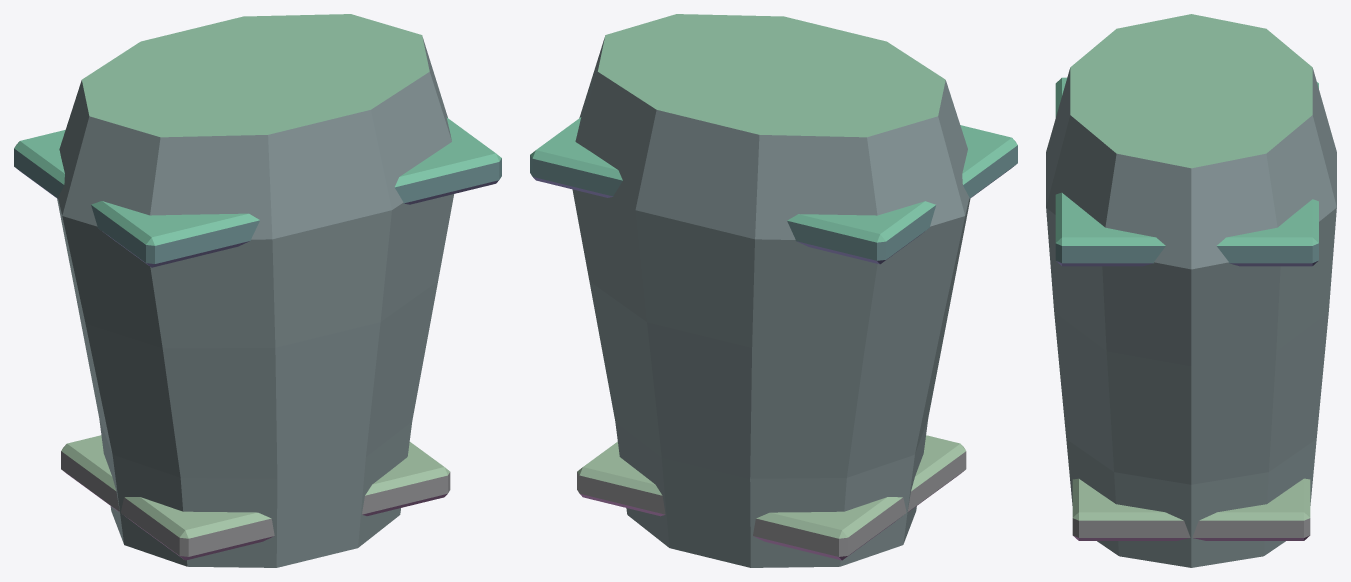
Rendered from npc_module_torso_v01.glb.
The picture shows the model from 3 angles, left to right: view 1: azimuth 30°, elevation 25°; view 2: azimuth 150°, elevation 25°; view 3: azimuth 270°, elevation 25°; orthographic projection. The views are drawn at different scales.
Visible parts, largest first — view 1: GEO_npc_module_torso_v01; view 2: GEO_npc_module_torso_v01; view 3: GEO_npc_module_torso_v01.
Boxes of the visible parts, x1,y1,x2,y2 form: GEO_npc_module_torso_v01: (14, 14, 501, 567); GEO_npc_module_torso_v01: (530, 14, 1017, 567); GEO_npc_module_torso_v01: (1046, 14, 1336, 567).
Bounding box in the file's own units: 1 × 1.08 × 0.6848.
